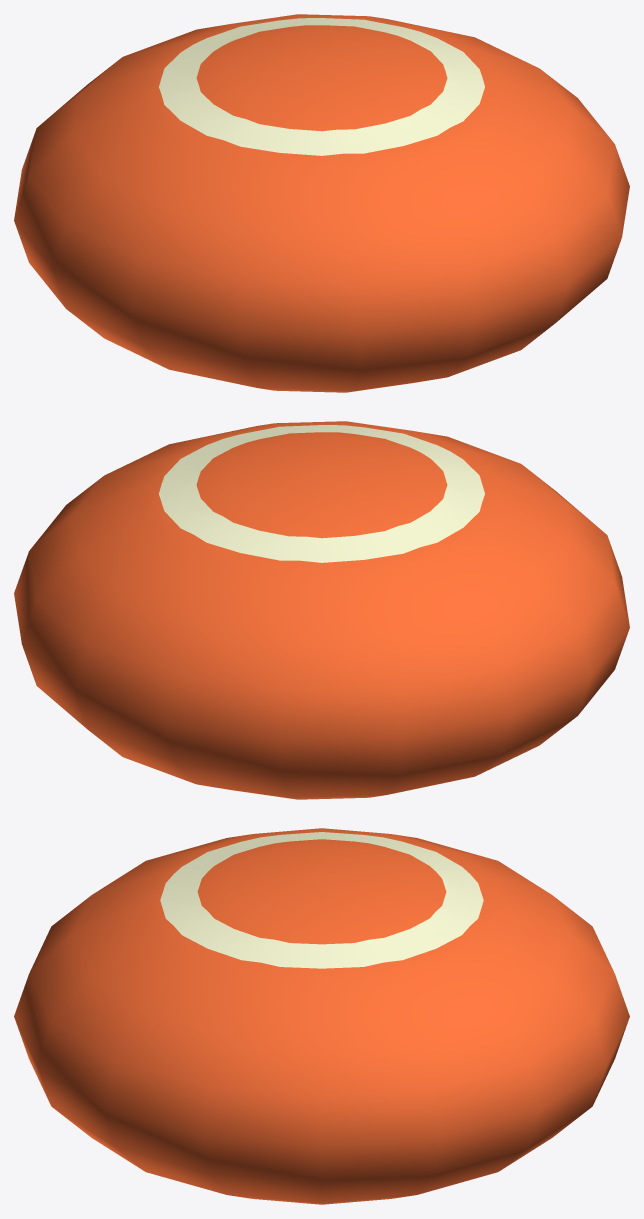
File: Dragee Chocolate B.fbx
3 views of the same model, one above another, from view 1: azimuth 30°, elevation 25°; view 2: azimuth 150°, elevation 25°; view 3: azimuth 270°, elevation 25° (orthographic).
Visible parts, largest first — view 1: Dragee Chocolate B; view 2: Dragee Chocolate B; view 3: Dragee Chocolate B.
Boxes of the visible parts, x1,y1,x2,y2 form: Dragee Chocolate B: (14,14,629,392); Dragee Chocolate B: (14,421,629,799); Dragee Chocolate B: (14,828,629,1204).
Size of the model in its own units: 0.109 by 0.054 by 0.109.
